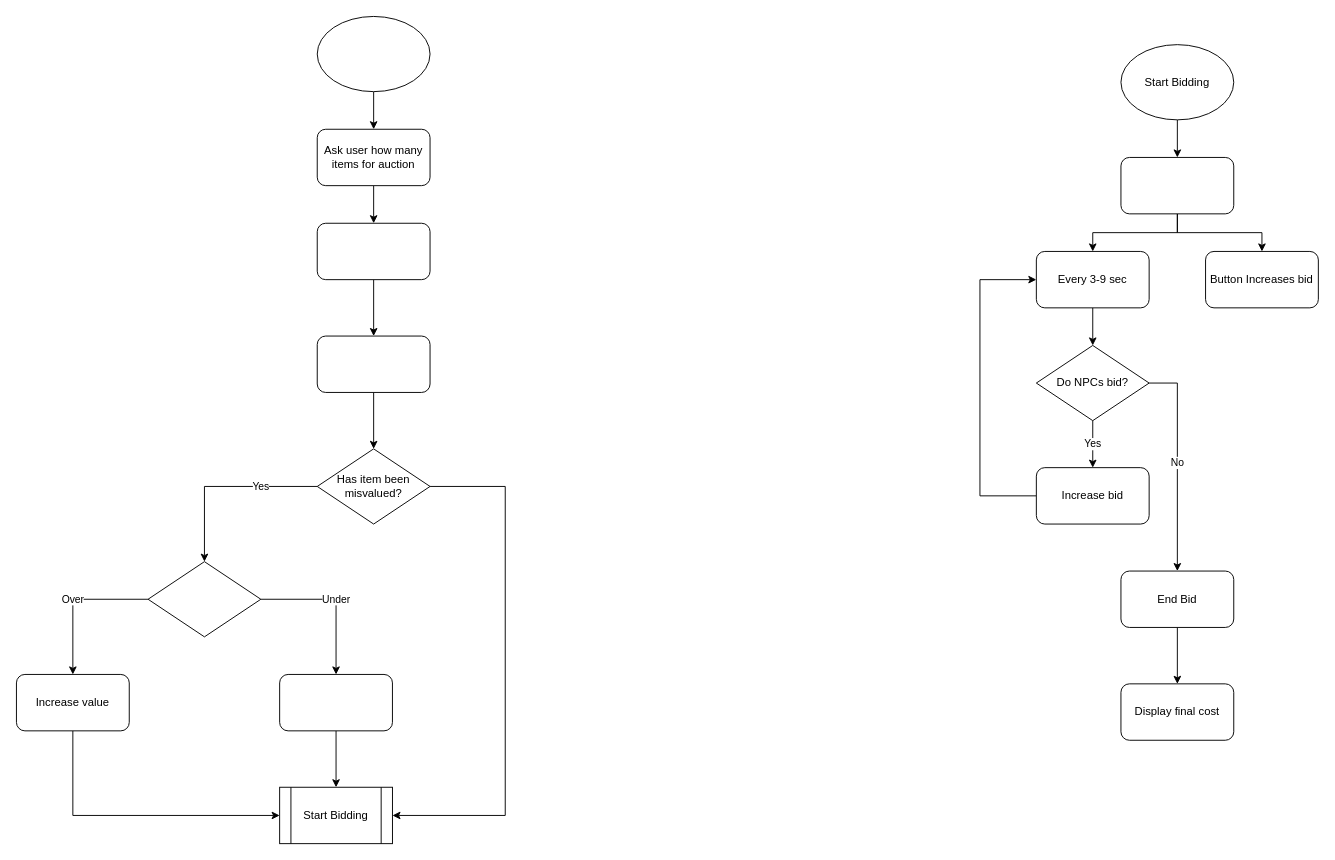
Some shapes in this 1335 by 860 pixel diagram are drawn without their labels. Each missing label, with the centre of its shape:
"Decrease Value" goes at [335,702].
"Item valuation" goes at [373,363].
"Open CSV, take random item" goes at [373,251].
"Set starting bid" goes at [1177,185].
"Start" goes at [373,54].
"under or over?" goes at [204,599].
